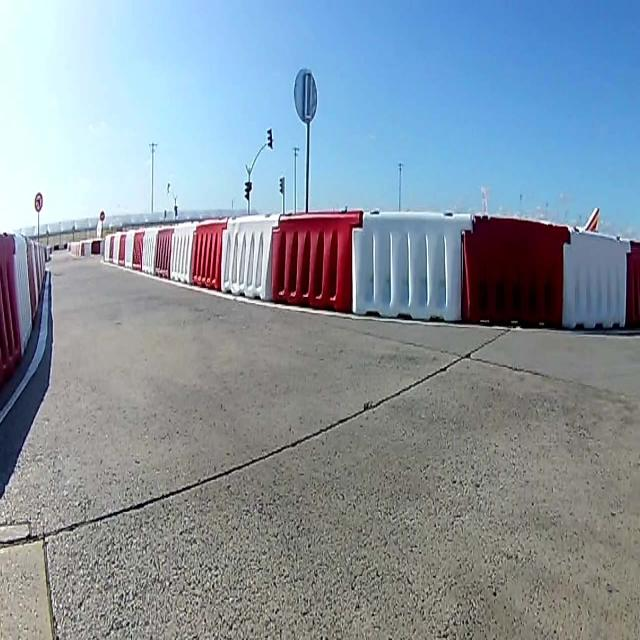soladonulmez: (36, 193, 42, 210)
